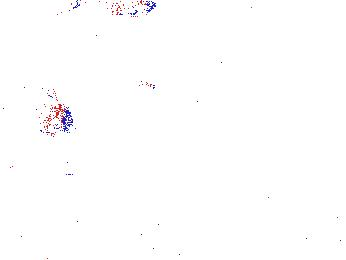X-ray fish: (33, 94, 79, 137)
glassfish: (194, 51, 303, 111)
red belly glassfish: (115, 73, 157, 92)
redtail glassfish: (56, 1, 157, 22)
